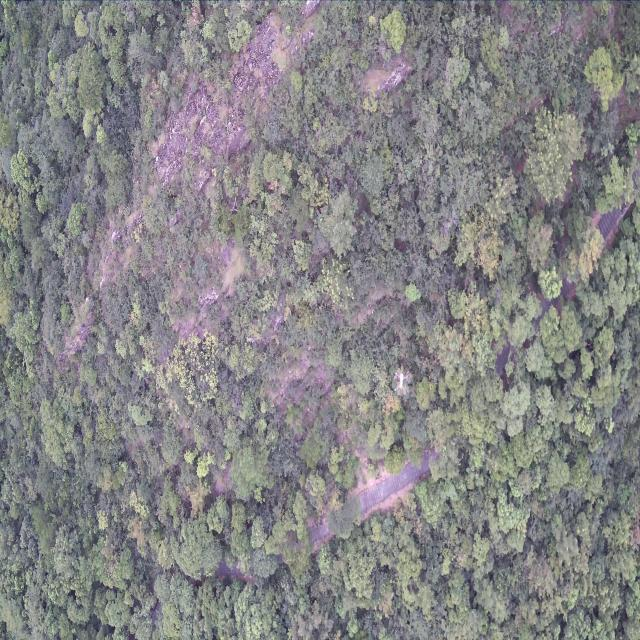drone: (394, 372, 408, 392)
